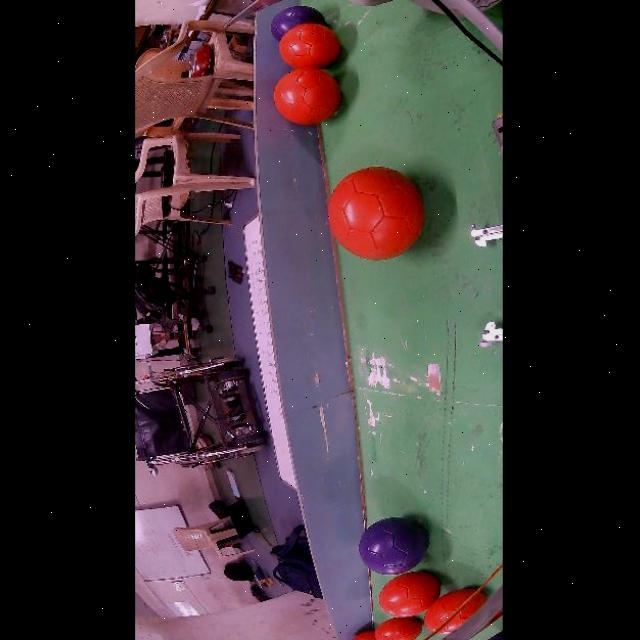P: (358, 517, 428, 576), (270, 6, 325, 41)
R: (328, 167, 423, 260), (273, 67, 340, 124), (423, 588, 486, 634), (279, 24, 340, 70), (378, 572, 440, 616), (374, 616, 422, 640), (353, 631, 376, 640)
